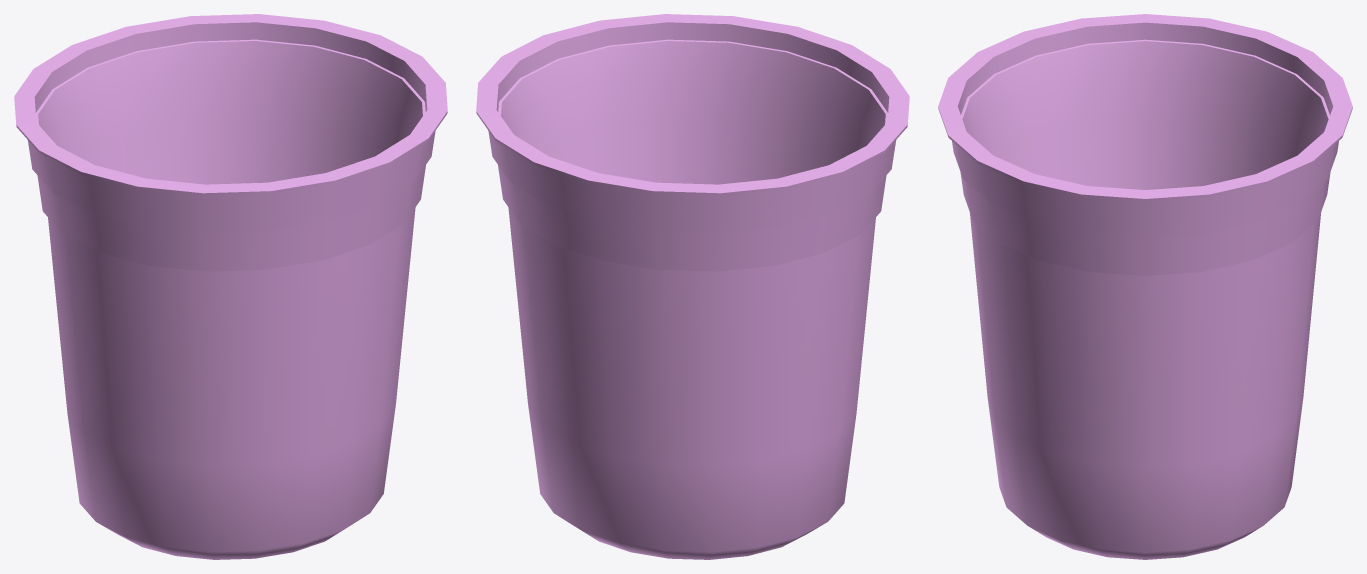
Rendered from PlasCup.fbx.
3 renders of one model, left to right at view 1: azimuth 30°, elevation 25°; view 2: azimuth 150°, elevation 25°; view 3: azimuth 270°, elevation 25°, orthographic.
Visible parts, largest first — view 1: Plastic_cups; view 2: Plastic_cups; view 3: Plastic_cups.
Part boxes in pixels (<box>): Plastic_cups: <box>14,14,447,559</box>; Plastic_cups: <box>476,14,909,559</box>; Plastic_cups: <box>938,14,1352,559</box>.
Size of the model in its own units: 11.78 by 11.85 by 11.16.
